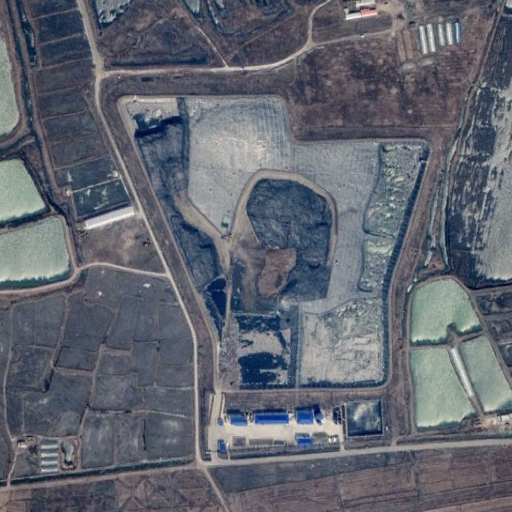lf: (114, 97, 425, 383)
